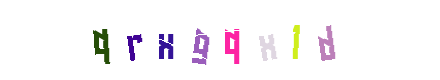1: (256, 0, 336, 80)
D: (276, 0, 356, 80)
G: (180, 0, 260, 80)
Q: (62, 0, 142, 80), (192, 0, 272, 80)
R: (111, 0, 191, 80)
X: (158, 0, 238, 80), (197, 0, 277, 80)
